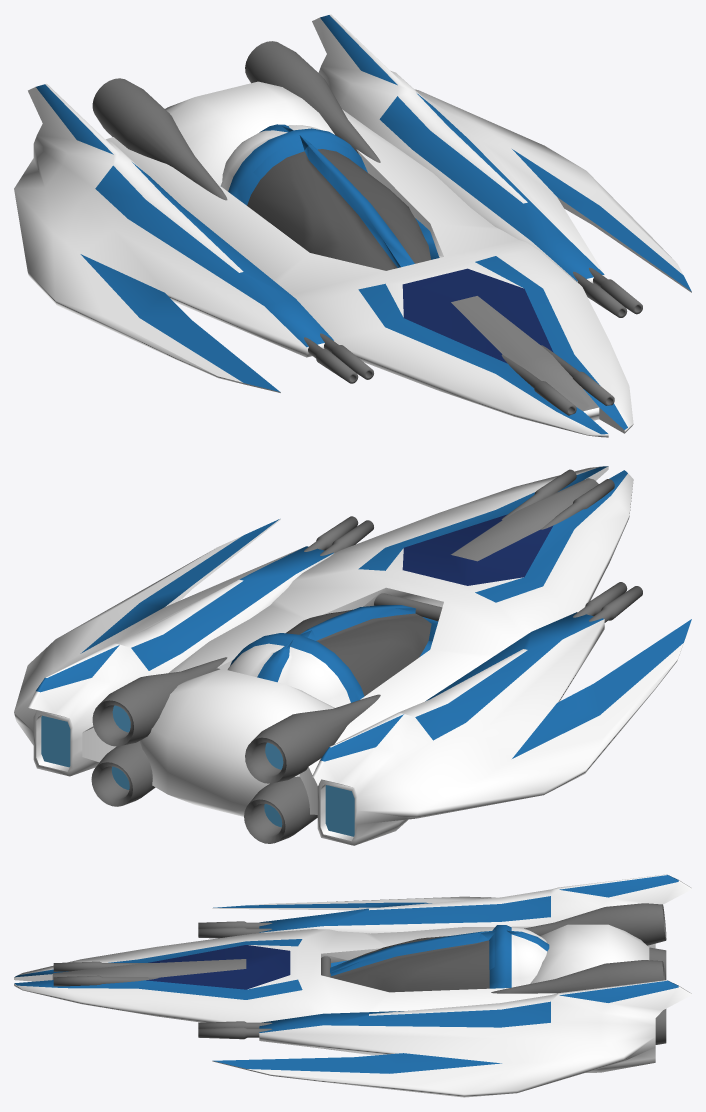
The model's file is Shipfighter2.fbx.
3 renders of one model, top to bottom at view 1: azimuth 30°, elevation 25°; view 2: azimuth 150°, elevation 25°; view 3: azimuth 270°, elevation 25°, orthographic. The views are drawn at different scales.
Parts seen in each view (by area): view 1: Polygonal_Geometry.011; view 2: Polygonal_Geometry.011; view 3: Polygonal_Geometry.011.
Part boxes in pixels (box(x1,y1,x2,y2)): Polygonal_Geometry.011: box(14, 14, 691, 437); Polygonal_Geometry.011: box(14, 466, 691, 845); Polygonal_Geometry.011: box(14, 874, 691, 1097).
Size of the model in its own units: 1532 by 421 by 2224.
